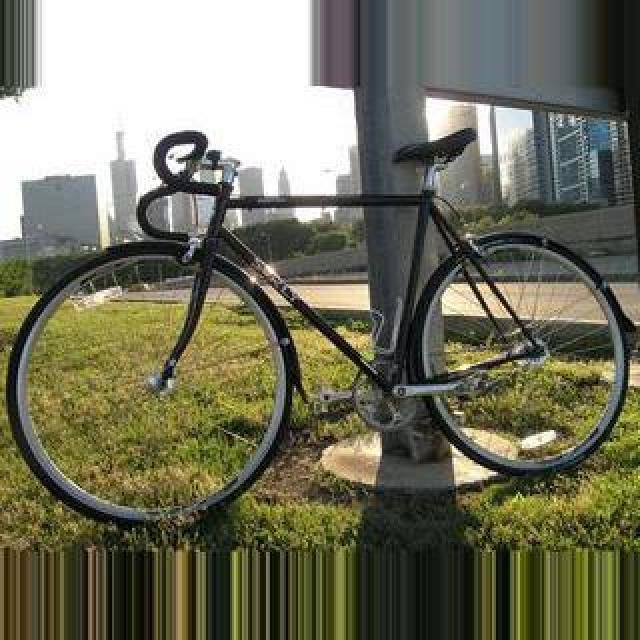Person: (14, 110, 630, 530)
